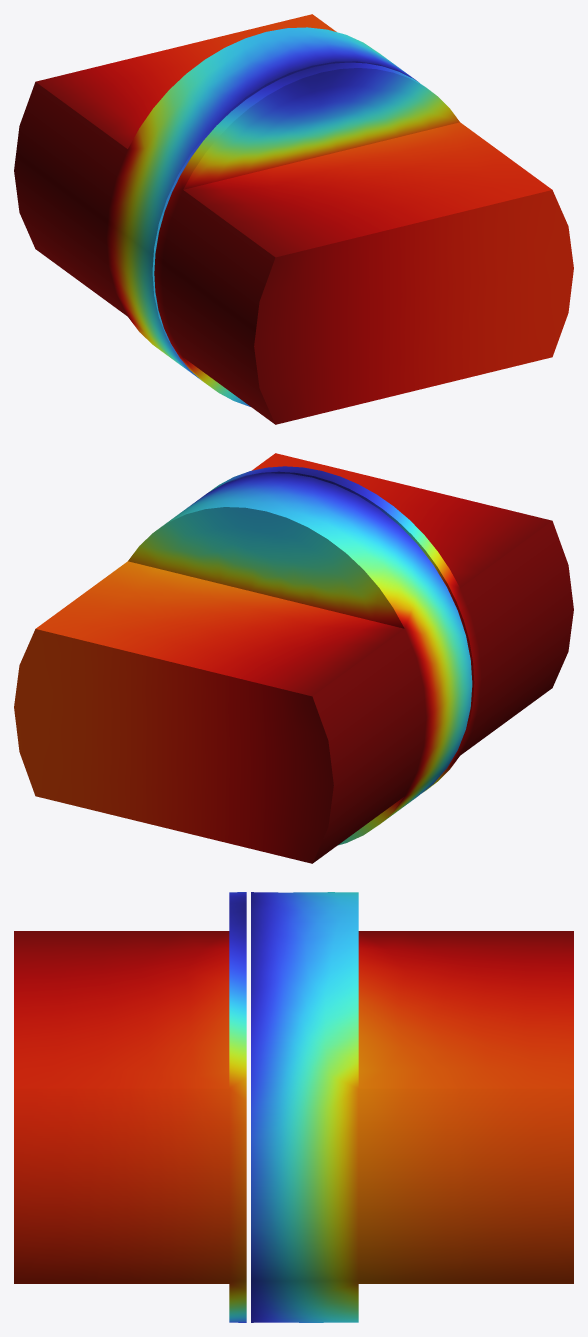
File: PilaH2-O2_mh2-2.70_V-1.1.glb
3 renders of one model, top to bottom at view 1: azimuth 30°, elevation 25°; view 2: azimuth 150°, elevation 25°; view 3: azimuth 270°, elevation 25°, orthographic. The views are drawn at different scales.
Size of the model in its own units: 0.001 by 0.001 by 0.0013.
2 materials, 2 textured.
